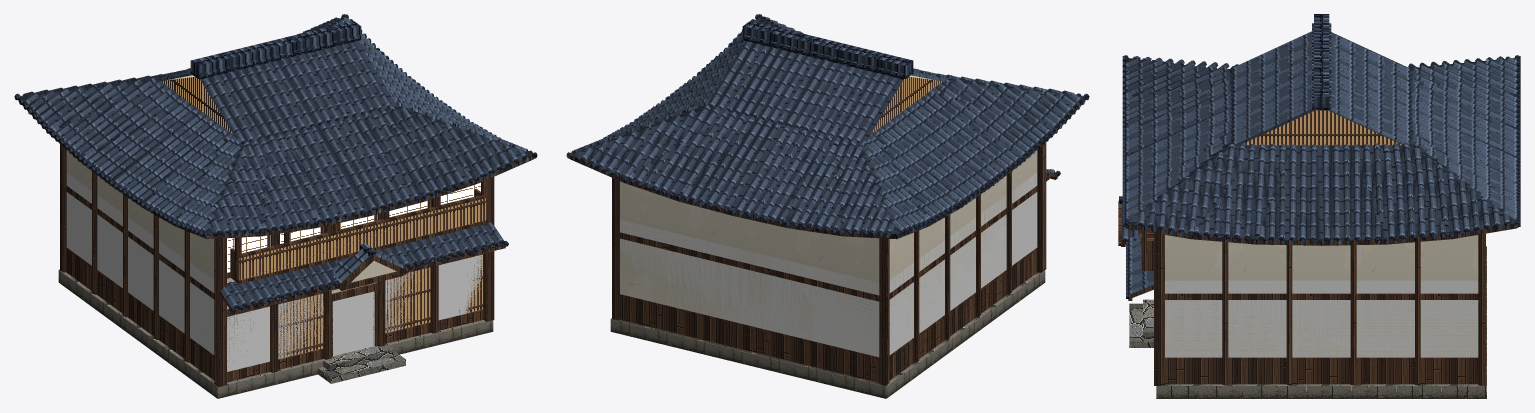
The model's file is JP_Rich_Residence_A.glb.
3 renders of one model, left to right at view 1: azimuth 30°, elevation 25°; view 2: azimuth 150°, elevation 25°; view 3: azimuth 270°, elevation 25°, orthographic. The views are drawn at different scales.
Visible parts, largest first — view 1: JP_Rich_Residence_A, COL_JP_Rich_Residence_A; view 2: JP_Rich_Residence_A, COL_JP_Rich_Residence_A; view 3: JP_Rich_Residence_A, COL_JP_Rich_Residence_A.
Part boxes in pixels (bbox=[...]): JP_Rich_Residence_A: bbox=[14, 14, 537, 398]; COL_JP_Rich_Residence_A: bbox=[66, 173, 482, 371]; JP_Rich_Residence_A: bbox=[566, 14, 1089, 398]; COL_JP_Rich_Residence_A: bbox=[620, 173, 1037, 357]; JP_Rich_Residence_A: bbox=[1118, 14, 1520, 398]; COL_JP_Rich_Residence_A: bbox=[1165, 280, 1478, 357].
Bounding box in the file's own units: 12.4 × 9.42 × 12.53.
Materials: 10 (10 with a texture image).
